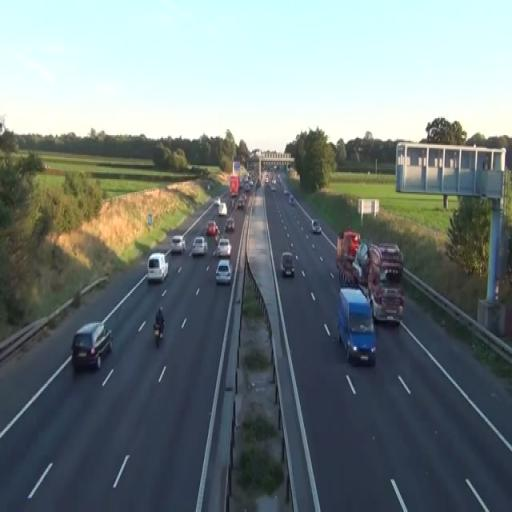Car: (71, 320, 113, 371), (147, 252, 169, 284), (215, 260, 231, 285), (281, 252, 294, 277), (192, 236, 208, 256), (216, 238, 232, 258), (171, 234, 186, 254), (206, 220, 219, 238), (311, 220, 322, 234), (225, 217, 235, 232)
Motorcycle: (154, 320, 164, 344), (154, 320, 162, 348)
Truck: (337, 287, 377, 366), (367, 242, 404, 326), (336, 228, 370, 290)
